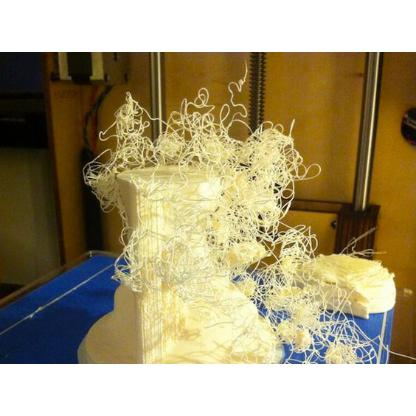fail: (91, 84, 353, 340)
